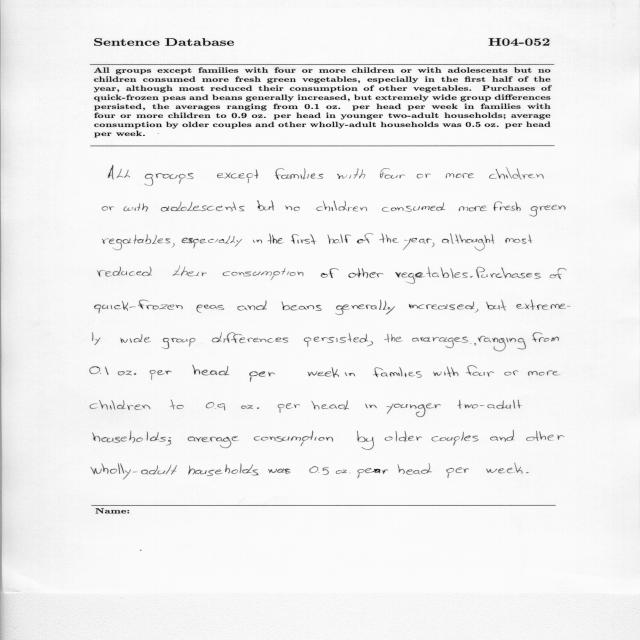word: (91, 463, 177, 479), (254, 431, 333, 447), (395, 267, 468, 284), (93, 431, 171, 446), (102, 234, 175, 250), (94, 300, 183, 313), (223, 268, 304, 280), (304, 333, 373, 347), (188, 463, 259, 476), (335, 300, 395, 315), (161, 202, 245, 212), (450, 233, 494, 251), (476, 267, 541, 279), (474, 336, 526, 351), (386, 403, 441, 417), (212, 333, 288, 343), (489, 167, 544, 179), (412, 337, 472, 348), (145, 173, 194, 186), (382, 202, 445, 212), (432, 432, 479, 445), (97, 266, 152, 277), (90, 400, 150, 410), (275, 168, 324, 180), (458, 400, 523, 409), (217, 170, 258, 184), (316, 201, 367, 212), (517, 300, 571, 310), (373, 367, 422, 378), (409, 302, 474, 310), (195, 436, 238, 448), (200, 235, 242, 247), (281, 301, 322, 311), (398, 463, 432, 475), (385, 431, 422, 442), (486, 463, 523, 474), (530, 205, 566, 216), (403, 238, 435, 250), (311, 400, 349, 410), (526, 431, 564, 441), (162, 338, 196, 349), (193, 365, 230, 375), (307, 367, 339, 378), (172, 266, 207, 276), (349, 268, 384, 278), (357, 430, 374, 450), (466, 365, 494, 377), (108, 165, 130, 180), (237, 300, 267, 311), (358, 468, 389, 478), (337, 168, 365, 179), (490, 430, 515, 442), (249, 371, 275, 382), (433, 366, 459, 377), (493, 202, 521, 212), (120, 334, 151, 343), (380, 168, 405, 179), (506, 234, 533, 244), (532, 333, 559, 343), (291, 234, 317, 244), (446, 467, 469, 478), (328, 234, 352, 244), (123, 203, 148, 212), (197, 305, 225, 313), (486, 300, 506, 311), (150, 370, 172, 380), (278, 403, 300, 413), (379, 233, 399, 243), (528, 370, 560, 376), (182, 238, 199, 249), (267, 233, 284, 244), (550, 268, 567, 279), (321, 268, 339, 278), (309, 466, 329, 475), (90, 366, 109, 375), (206, 402, 225, 411), (257, 201, 274, 211), (459, 206, 487, 212), (357, 234, 373, 244), (446, 173, 474, 178), (269, 468, 291, 474), (170, 400, 184, 409), (92, 333, 101, 345), (391, 334, 403, 342), (285, 205, 300, 211), (118, 371, 136, 376), (241, 405, 259, 409), (417, 174, 431, 179), (505, 371, 519, 376), (102, 206, 114, 211), (336, 470, 350, 474), (385, 334, 391, 343), (365, 404, 377, 408), (345, 373, 355, 377), (253, 240, 262, 244), (188, 437, 195, 442), (442, 239, 449, 243), (475, 309, 478, 313), (470, 276, 473, 277), (526, 472, 529, 473)
